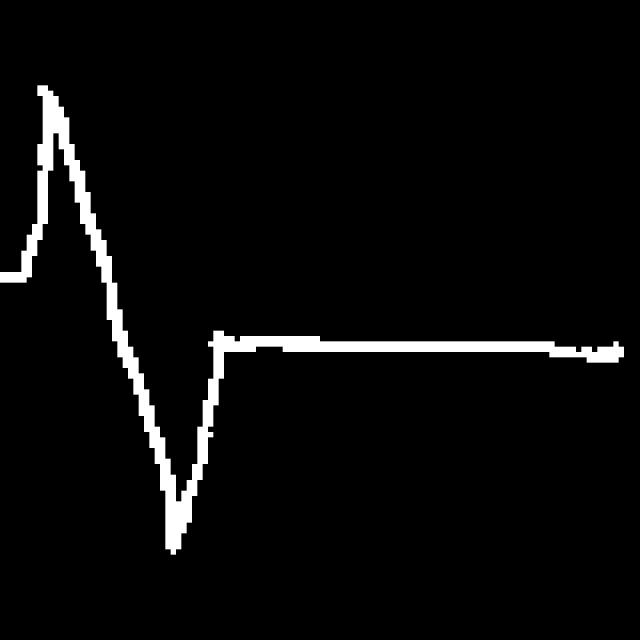resistor: (12, 69, 234, 579)
